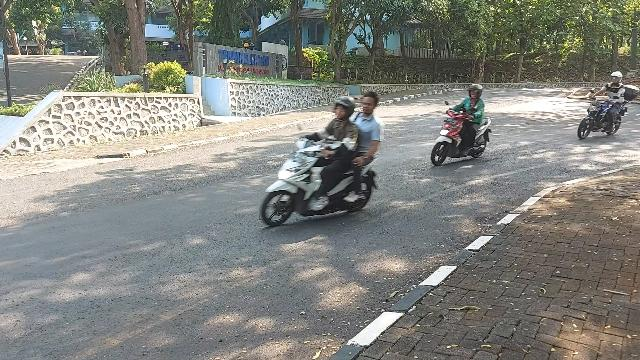helm: (333, 98, 356, 121), (469, 85, 484, 100), (611, 73, 623, 84)
motor: (262, 125, 378, 228), (432, 102, 492, 166), (580, 92, 629, 140)
non-helm: (363, 93, 379, 115)
